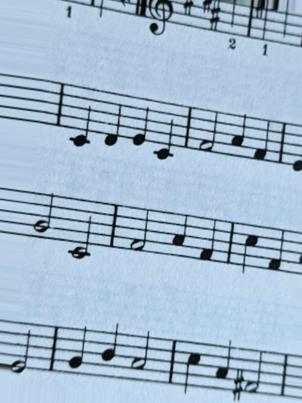note: (66, 80, 97, 154), (151, 97, 178, 166), (101, 83, 124, 149), (98, 320, 121, 383), (128, 91, 152, 151), (65, 321, 89, 380), (180, 333, 201, 400), (195, 210, 218, 268), (263, 224, 287, 279), (170, 206, 191, 266), (211, 341, 232, 400), (227, 107, 248, 164), (251, 112, 272, 167), (240, 219, 259, 279)
